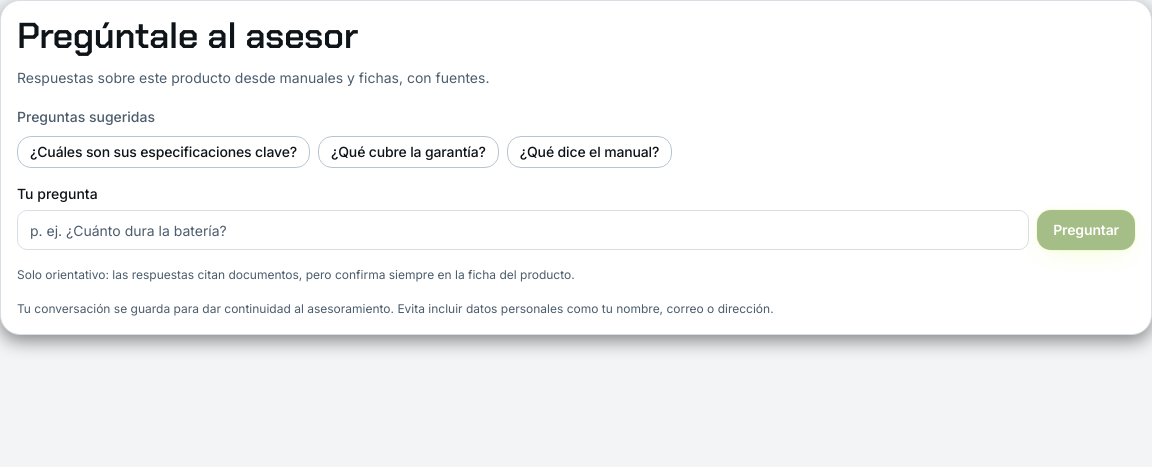
Scenario: ProductAdvisor session wiring › shows not-found when the rotated session 404s too
In the field labelled "Tu pregunta": x=523, y=230 [17,210,1029,250], type "¿Batería?"
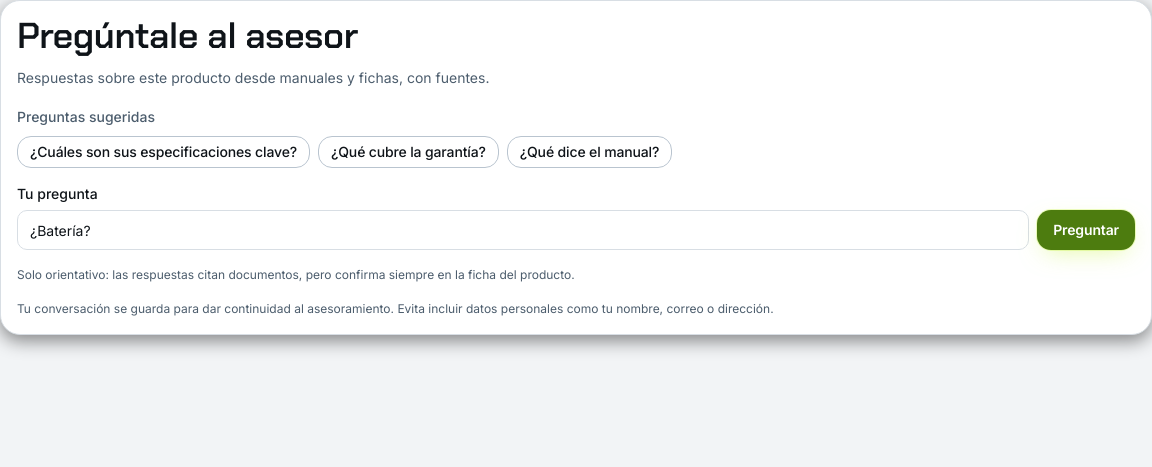
Click the button "Preguntar": x=1086, y=230 [1037,210,1135,250]
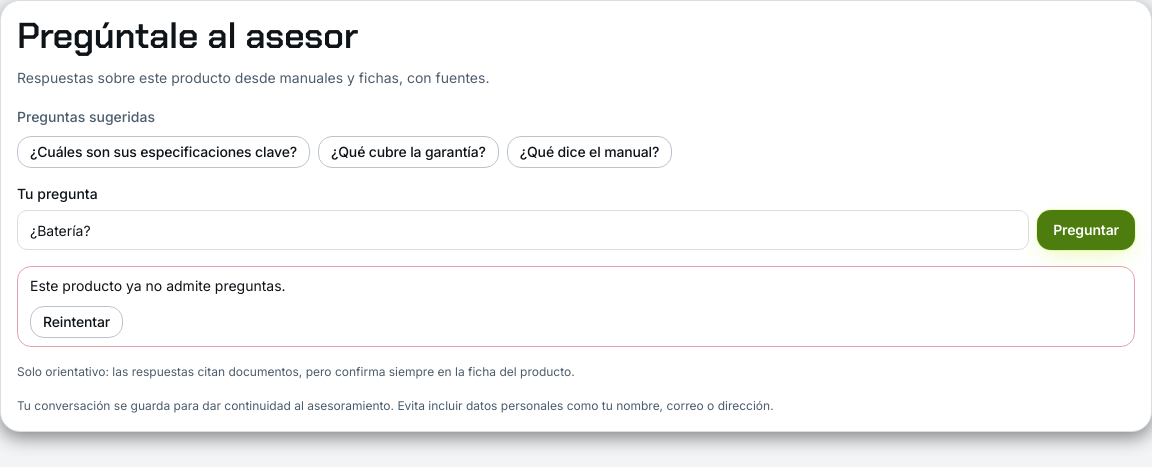
Expected: the message "Este producto ya no admite preguntas. Reintentar" is shown, [17,266,1135,347]
Expected: the message shows "Este producto ya no admite preguntas.", [30,277,286,294]
